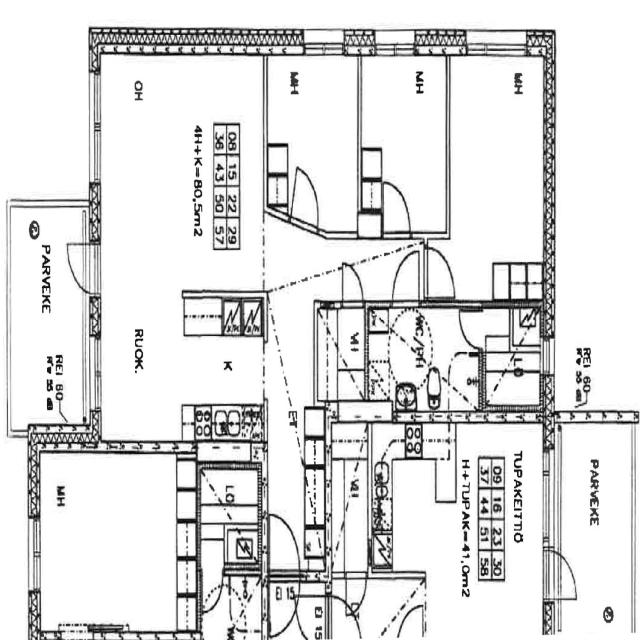door: (290, 159, 323, 231), (266, 510, 299, 576), (381, 174, 414, 238), (423, 240, 456, 302), (391, 244, 422, 307), (269, 576, 300, 638), (64, 239, 97, 294), (546, 550, 579, 601), (457, 300, 484, 352), (339, 260, 366, 310), (343, 570, 369, 616), (202, 575, 223, 614)
window: (84, 63, 107, 195), (540, 441, 563, 555), (84, 324, 106, 421), (464, 31, 528, 62), (27, 514, 45, 597), (302, 31, 346, 62), (374, 30, 416, 58)
zone: (98, 45, 268, 448), (369, 420, 547, 640), (32, 442, 199, 638), (447, 48, 551, 302), (6, 197, 92, 438), (268, 51, 362, 230), (361, 49, 451, 235), (368, 304, 482, 419), (197, 459, 264, 636), (484, 304, 545, 412), (316, 304, 367, 398), (481, 450, 504, 580), (228, 571, 262, 636), (223, 522, 261, 570)
